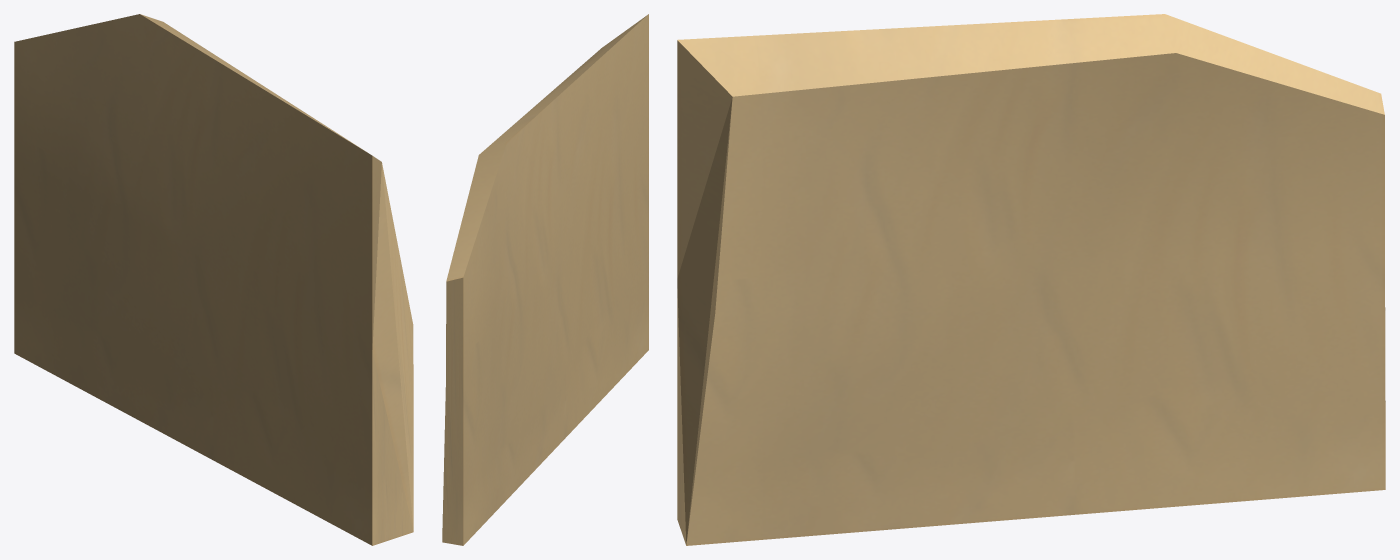
The model's file is WallB.FBX.
The picture shows the model from 3 angles, left to right: view 1: azimuth 30°, elevation 25°; view 2: azimuth 150°, elevation 25°; view 3: azimuth 270°, elevation 25°; orthographic projection. The views are drawn at different scales.
Visible parts, largest first — view 1: WallB; view 2: WallB; view 3: WallB.
Part boxes in pixels (<box>): WallB: <box>14,14,413,545</box>; WallB: <box>442,14,648,545</box>; WallB: <box>677,14,1385,545</box>.
Size of the model in its own units: 6.86 by 26.8 by 20.23.
1 material, 1 textured.
